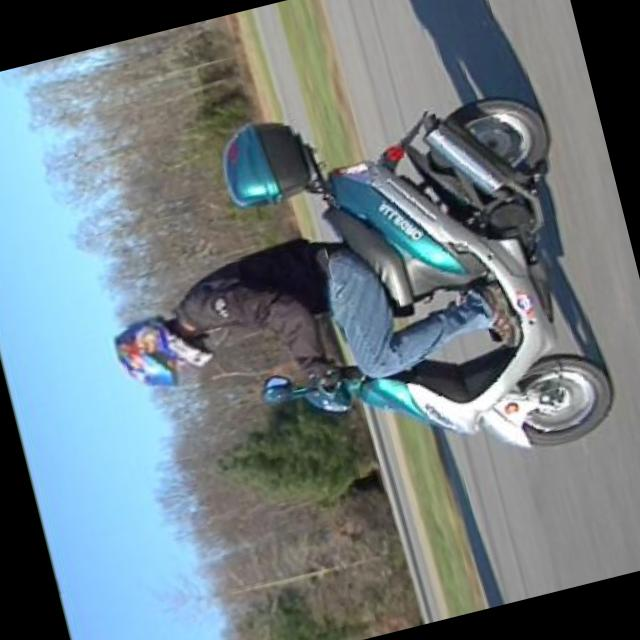With Helmet: (92, 296, 219, 397)
